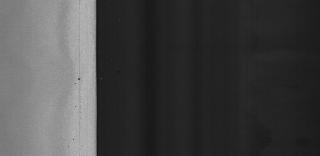oil spot: (75, 71, 83, 85), (72, 104, 82, 110)
